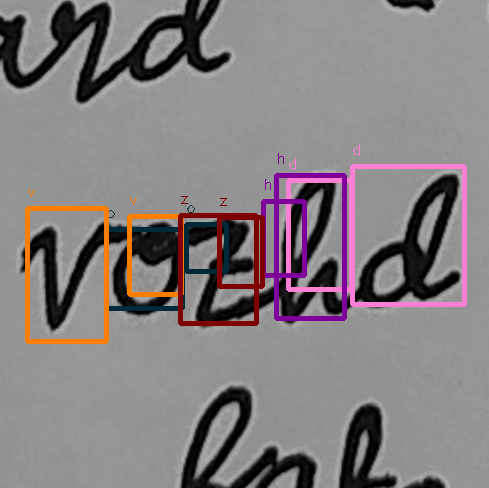d: (355, 170, 463, 311)
h: (274, 167, 348, 328)
o: (107, 215, 186, 318)
v: (31, 217, 113, 333)
z: (188, 213, 258, 328)
